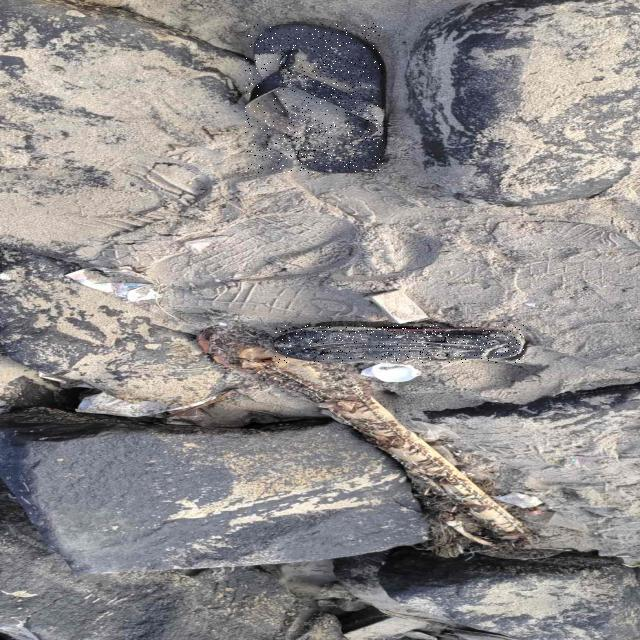other: (245, 23, 383, 172), (272, 325, 524, 362)
